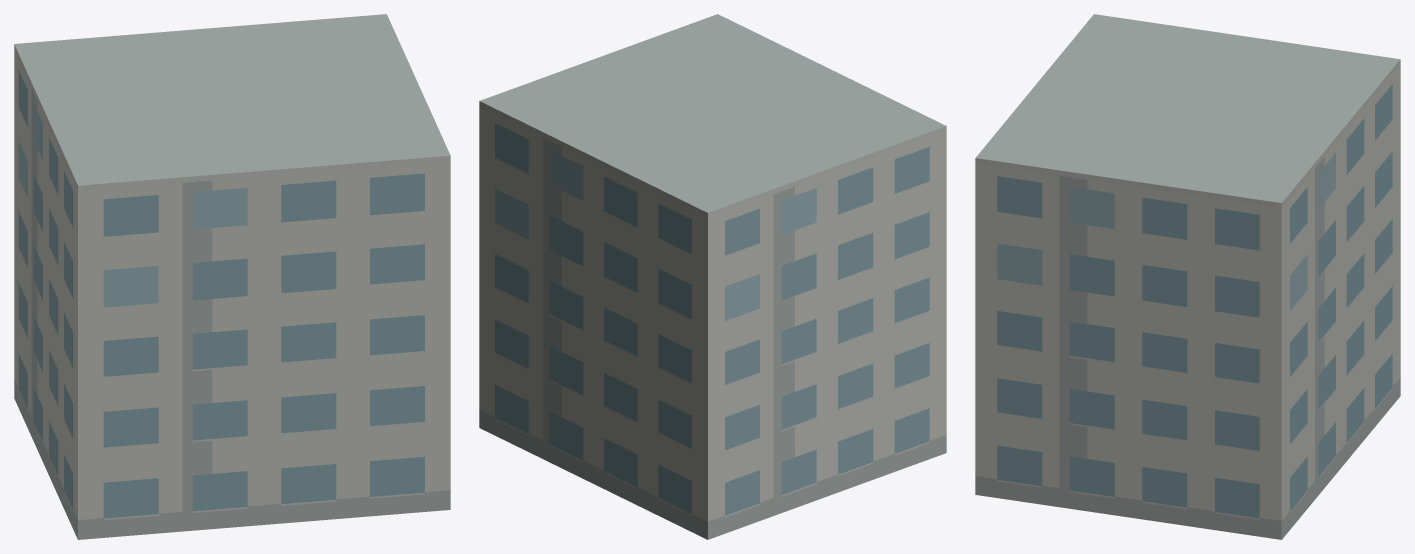
File: residential-c6b14dbf-5eb6-4d11-b5ff-5e8dfa20a135.glb
The picture shows the model from 3 angles, left to right: view 1: azimuth 30°, elevation 25°; view 2: azimuth 150°, elevation 25°; view 3: azimuth 270°, elevation 25°; orthographic projection. The views are drawn at different scales.
Visible parts, largest first — view 1: residential-c6b14dbf-5eb6-4d11-b5ff-5e8dfa20a135.tmp; view 2: residential-c6b14dbf-5eb6-4d11-b5ff-5e8dfa20a135.tmp; view 3: residential-c6b14dbf-5eb6-4d11-b5ff-5e8dfa20a135.tmp.
Part boxes in pixels (<box>): residential-c6b14dbf-5eb6-4d11-b5ff-5e8dfa20a135.tmp: <box>14,14,450,539</box>; residential-c6b14dbf-5eb6-4d11-b5ff-5e8dfa20a135.tmp: <box>479,14,946,539</box>; residential-c6b14dbf-5eb6-4d11-b5ff-5e8dfa20a135.tmp: <box>975,14,1400,539</box>.
Size of the model in its own units: 18.37 by 15.25 by 17.46.
